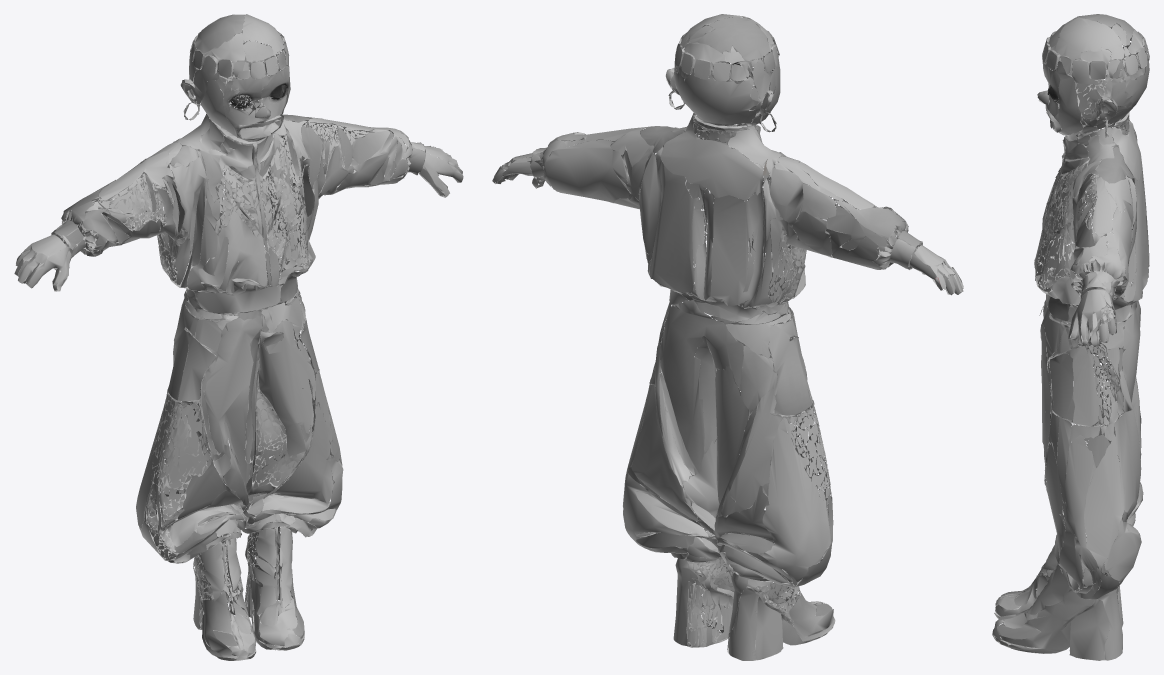
File: Silver Smitty.glb
3 views of the same model, side by side, from view 1: azimuth 30°, elevation 25°; view 2: azimuth 150°, elevation 25°; view 3: azimuth 270°, elevation 25° (orthographic). The views are drawn at different scales.
Visible parts, largest first — view 1: node_0; view 2: node_0; view 3: node_0.
Boxes of the visible parts, x1,y1,x2,y2 form: node_0: (14, 14, 463, 660); node_0: (492, 14, 963, 660); node_0: (992, 14, 1149, 660).
Bounding box in the file's own units: 0.9062 × 1.16 × 0.2689.
1 material, 1 textured.
